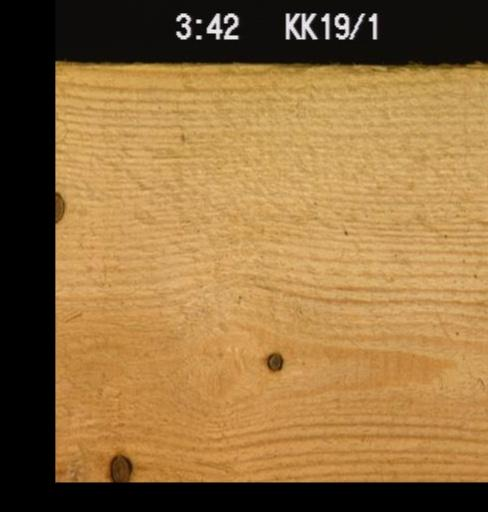dry_knot: (264, 350, 283, 371), (55, 189, 64, 225)
edge_knot: (106, 451, 132, 481)
